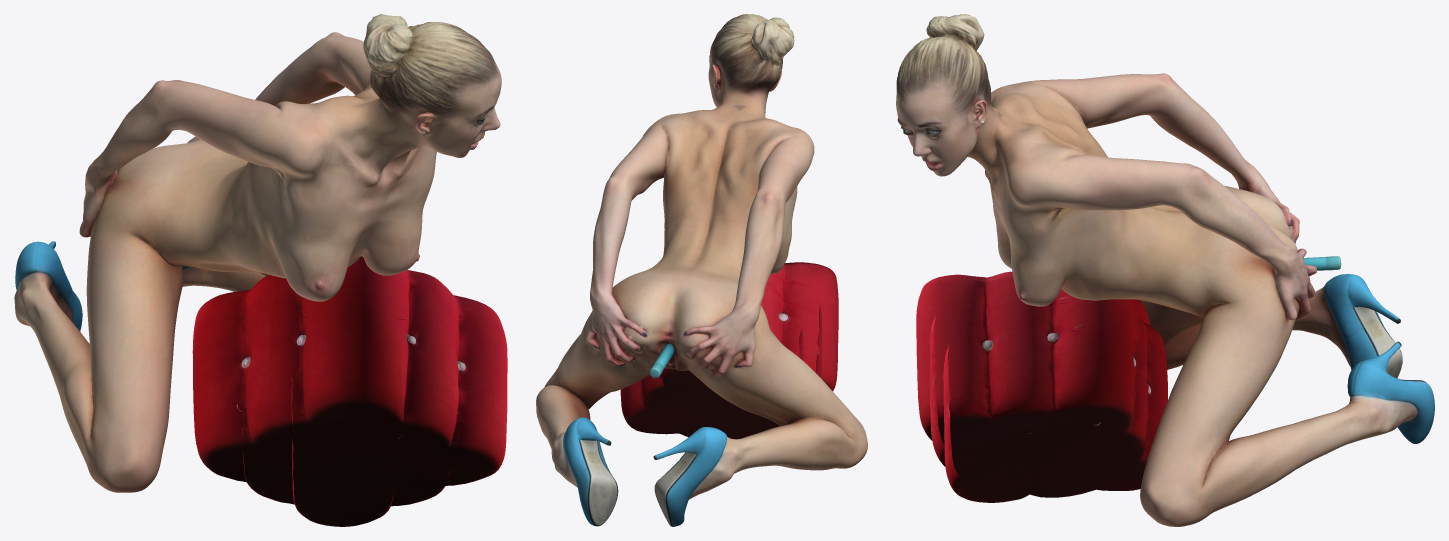
Rendered from 9_opt.glb.
3 renders of one model, left to right at view 1: azimuth 30°, elevation 25°; view 2: azimuth 150°, elevation 25°; view 3: azimuth 270°, elevation 25°, orthographic. The views are drawn at different scales.
Visible parts, largest first — view 1: 63_LOD0_MeshPart0, 63_Stool_LOD0; view 2: 63_LOD0_MeshPart0, 63_Stool_LOD0; view 3: 63_LOD0_MeshPart0, 63_Stool_LOD0.
Part boxes in pixels (box(x1,y1,x2,y2)): 63_LOD0_MeshPart0: box(14, 14, 501, 492); 63_Stool_LOD0: box(192, 256, 507, 526); 63_LOD0_MeshPart0: box(536, 14, 867, 526); 63_Stool_LOD0: box(620, 262, 838, 439); 63_LOD0_MeshPart0: box(896, 14, 1434, 526); 63_Stool_LOD0: box(916, 271, 1167, 502).
Size of the model in its own units: 0.7421 by 0.8731 by 0.9739.
Materials: 3 (2 with a texture image).
